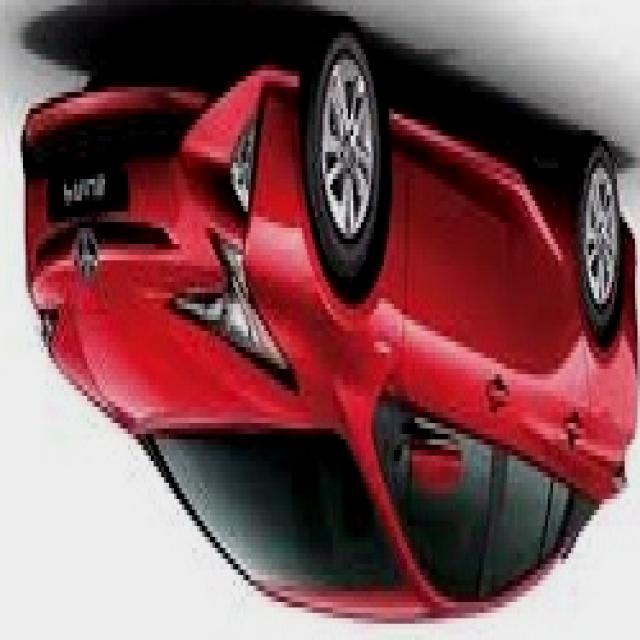red: (25, 74, 640, 622)
